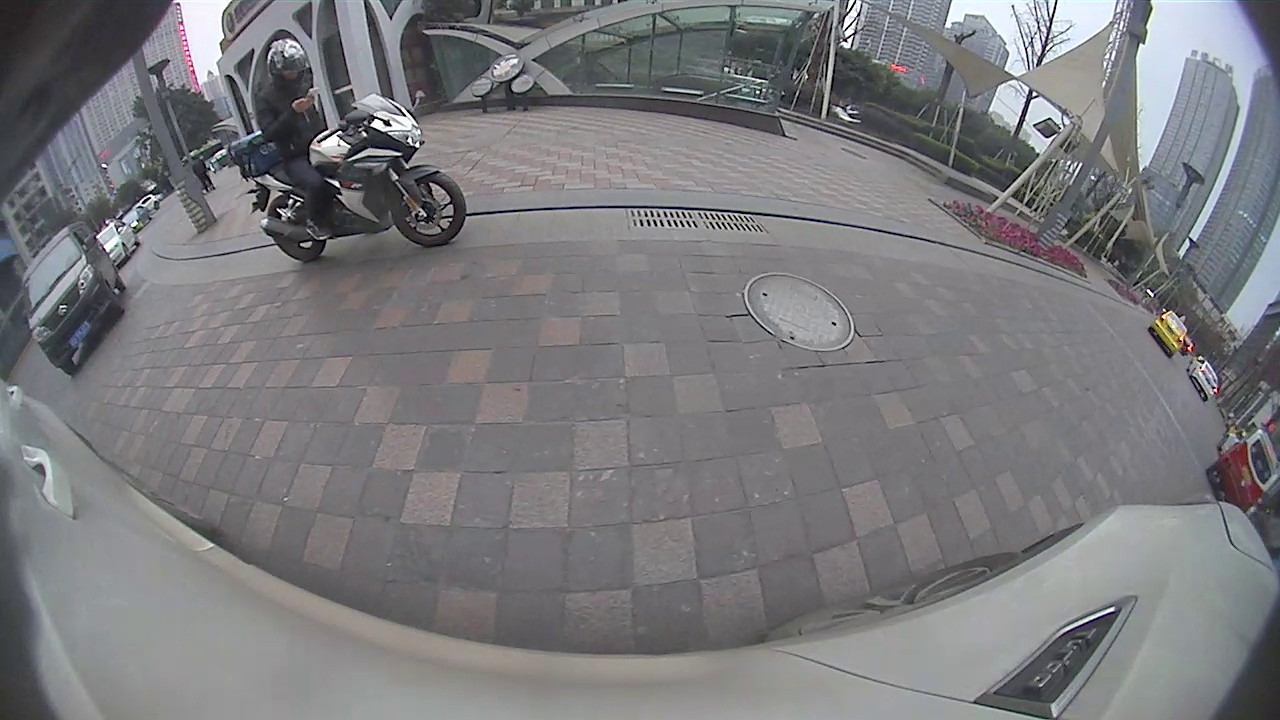car: (22, 219, 129, 373), (1205, 429, 1277, 516), (1148, 307, 1189, 357)
front: (390, 172, 466, 247)
rear: (262, 199, 326, 262)
rider: (226, 37, 467, 263)
